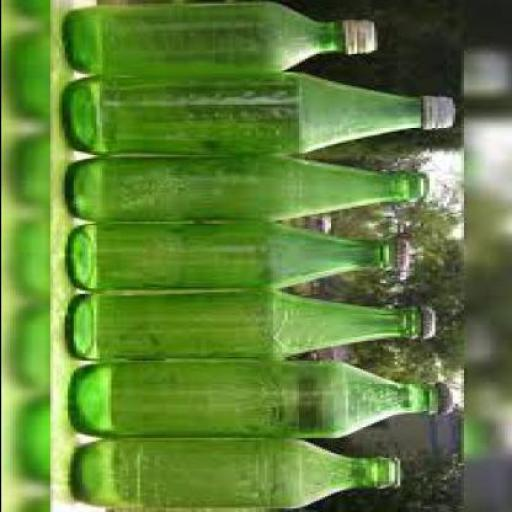glass: (66, 360, 440, 440), (63, 74, 423, 155), (67, 155, 419, 224), (70, 294, 422, 361), (69, 224, 396, 292), (75, 441, 396, 510), (63, 4, 344, 74)
metal: (350, 21, 382, 58), (428, 99, 460, 131), (442, 386, 458, 418), (422, 310, 437, 339), (399, 241, 411, 272)
